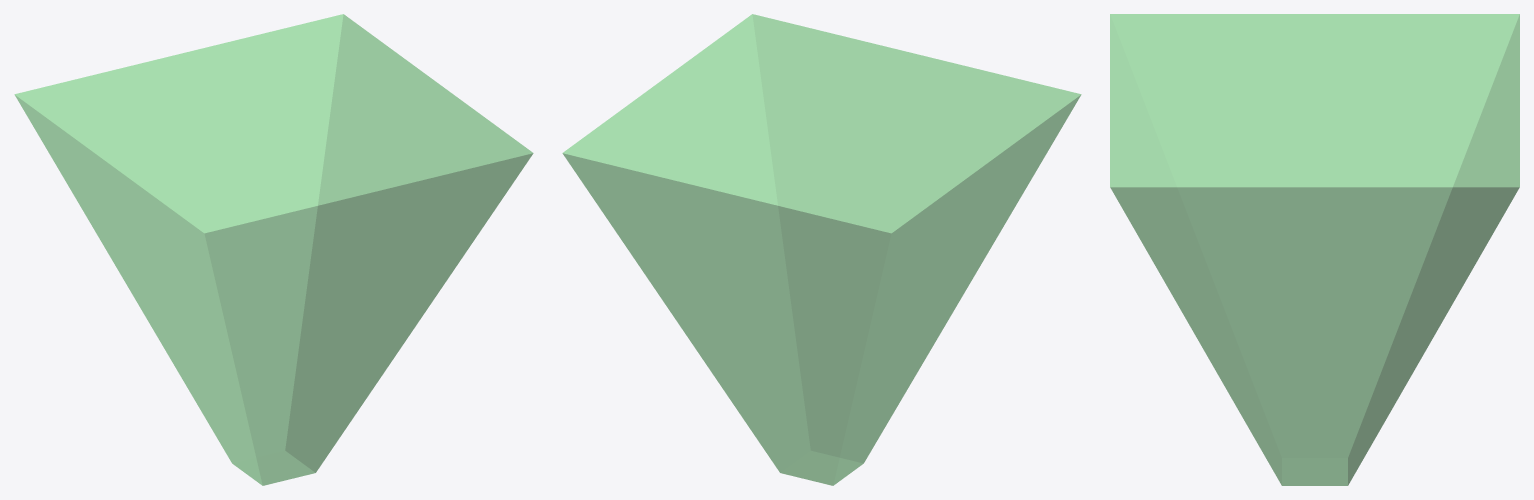
File: MarcadorPersonaje.FBX
The picture shows the model from 3 angles, left to right: view 1: azimuth 30°, elevation 25°; view 2: azimuth 150°, elevation 25°; view 3: azimuth 270°, elevation 25°; orthographic projection. The views are drawn at different scales.
Visible parts, largest first — view 1: Box001; view 2: Box001; view 3: Box001.
Part boxes in pixels (<box>): Box001: <box>14,14,533,485</box>; Box001: <box>562,14,1081,485</box>; Box001: <box>1110,14,1519,485</box>.
Bounding box in the file's own units: 0.3 × 0.3 × 0.3.
